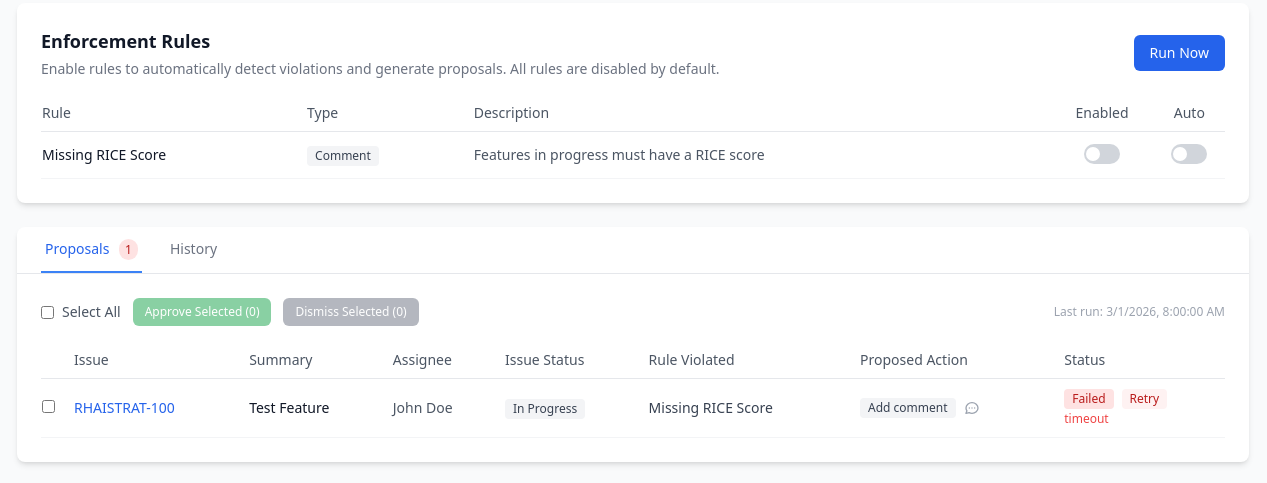
Test case: HygieneEnforcementView — Proposal Status › History tab shows proposal outcomes › shows summary counts per run
Click the button "History" at (193, 250), box top-left (166, 227), bottom-right (221, 273)
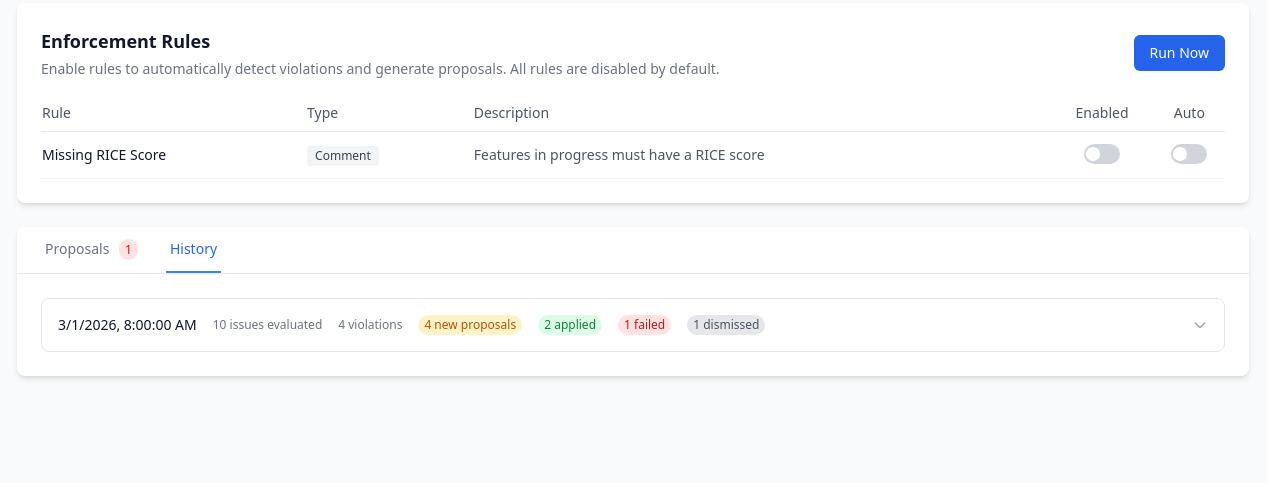
Check: the text "10 issues evaluated" is shown, box top-left (213, 317), bottom-right (322, 333)
Check: the text "2 applied" is shown, box top-left (538, 315), bottom-right (602, 335)
Check: the text "1 failed" is shown, box top-left (618, 315), bottom-right (671, 335)
